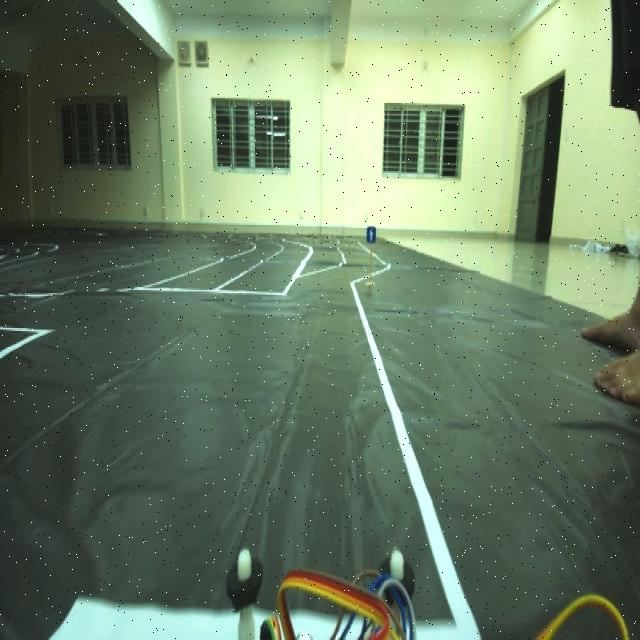onewayroad: (364, 220, 380, 247)
